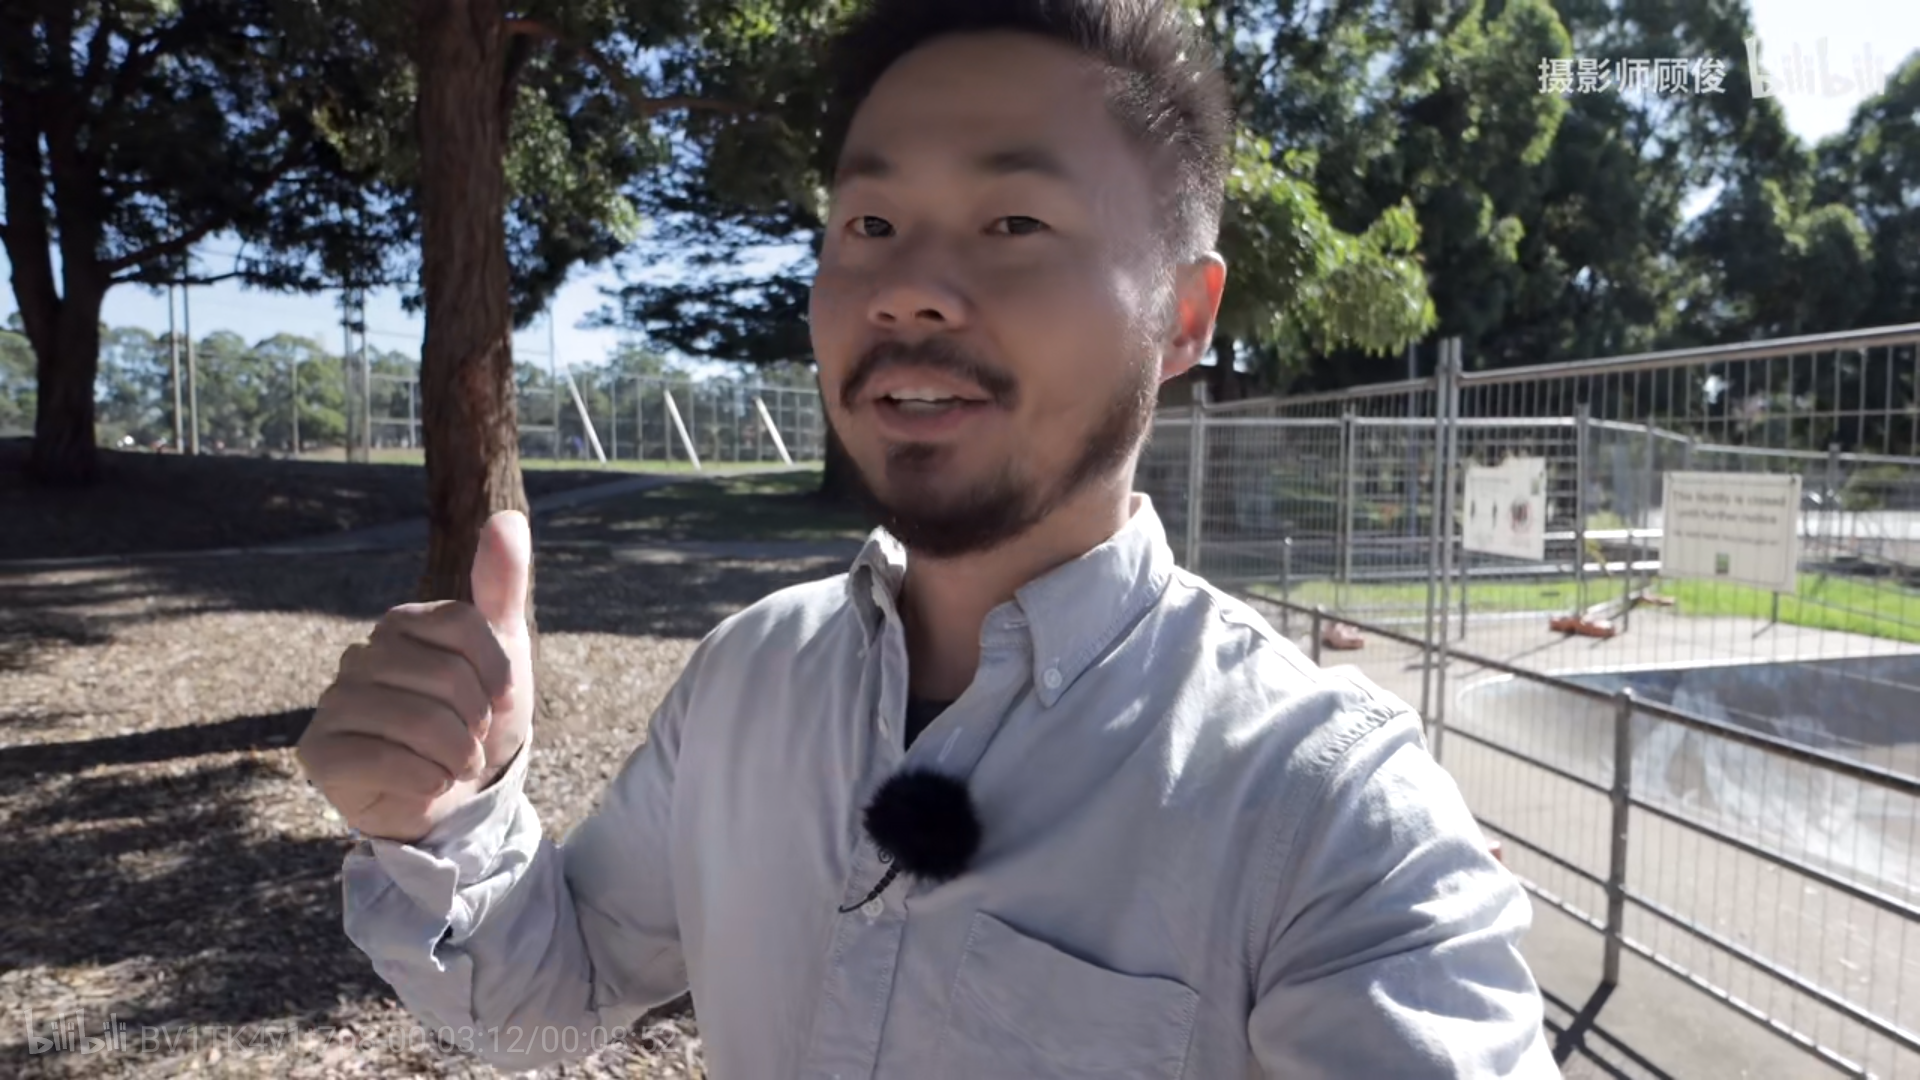noWear: (807, 138, 1226, 560)
